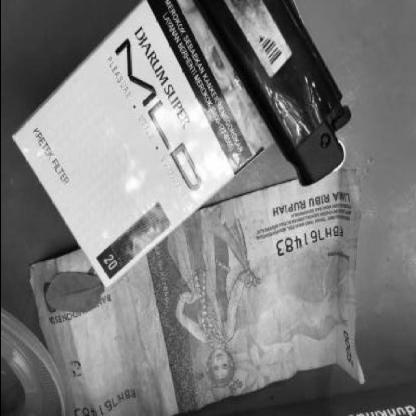objects: (12, 0, 272, 286)
